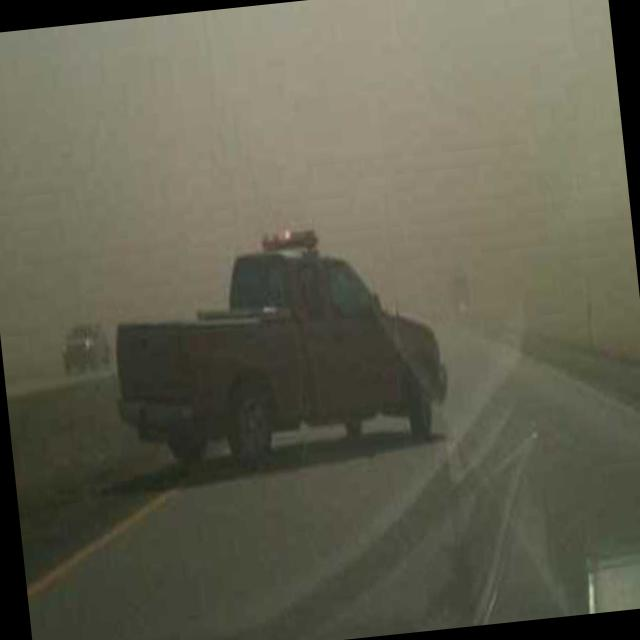car: (58, 319, 110, 374)
